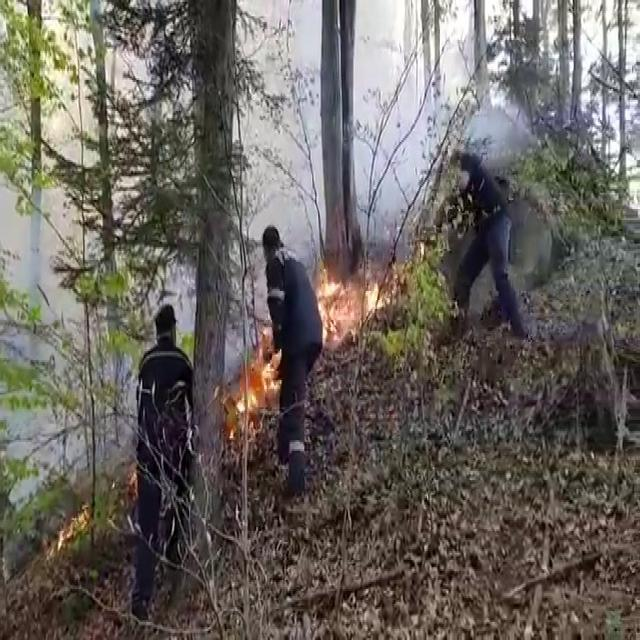Fire: (314, 252, 384, 350), (228, 324, 284, 444)
Smoke: (236, 0, 518, 242)
